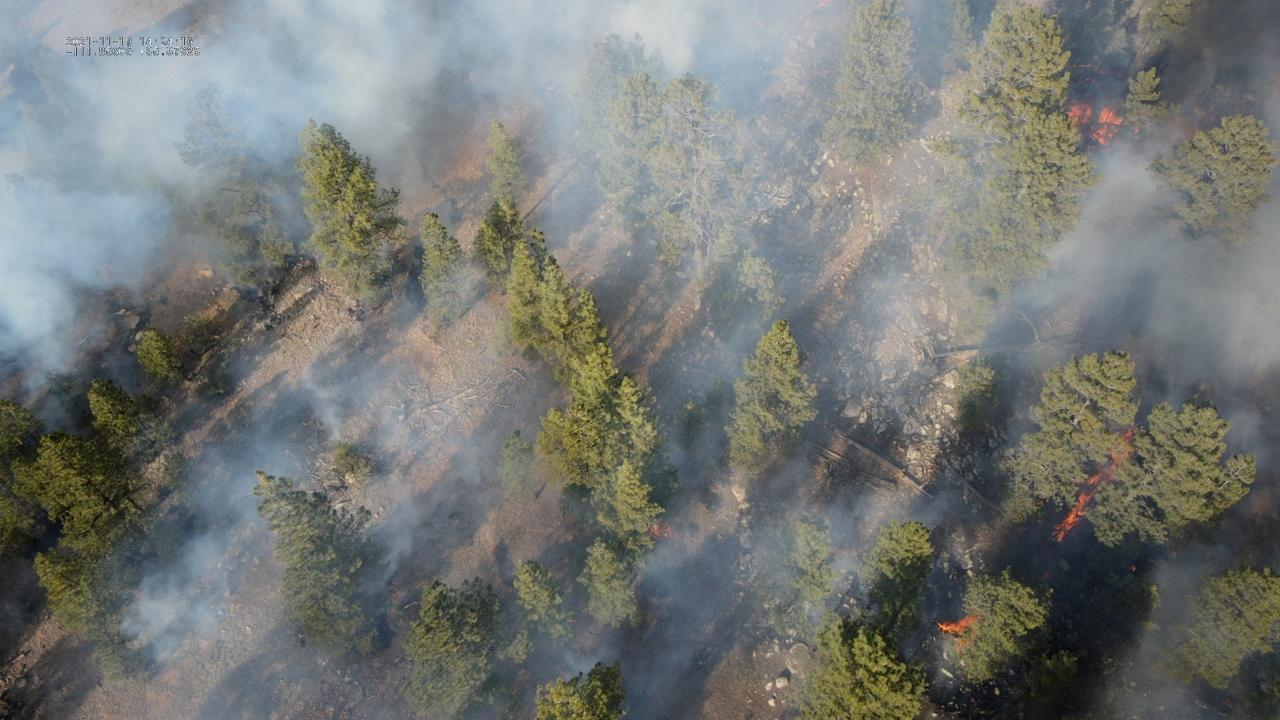fire: (1053, 427, 1139, 541), (1064, 101, 1131, 153), (936, 608, 983, 638), (647, 520, 672, 544), (1071, 62, 1094, 68), (1130, 565, 1137, 573)
smoke: (0, 0, 1280, 720), (1112, 544, 1231, 720)
